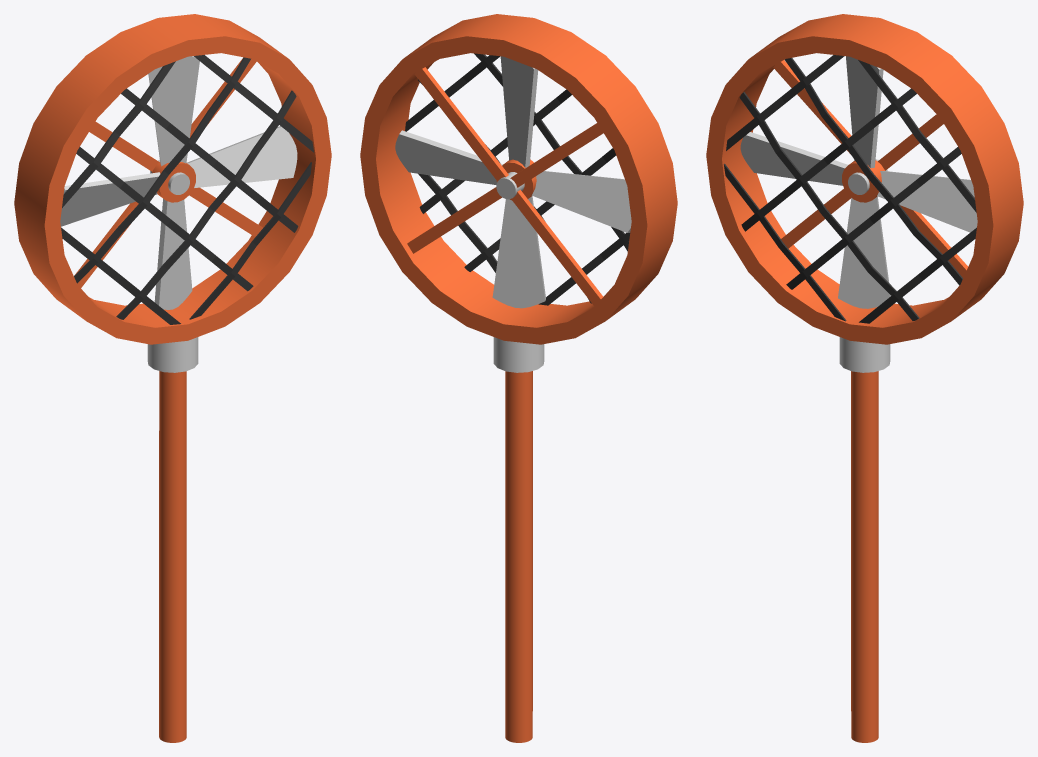
The model's file is Ventilator C.fbx.
The picture shows the model from 3 angles, left to right: view 1: azimuth 30°, elevation 25°; view 2: azimuth 150°, elevation 25°; view 3: azimuth 330°, elevation 25°; orthographic projection.
Parts seen in each view (by area): view 1: Ventilator C, Ventilator C.001, Grid Ventilator C, Ventilator C Stand; view 2: Ventilator C, Ventilator C.001, Ventilator C Stand, Grid Ventilator C; view 3: Ventilator C, Ventilator C.001, Grid Ventilator C, Ventilator C Stand.
Part boxes in pixels (left/top/right/bottom): Ventilator C: left=14, top=14, right=331, bottom=372; Ventilator C.001: left=60, top=56, right=297, bottom=309; Grid Ventilator C: left=61, top=55, right=313, bottom=324; Ventilator C Stand: left=159, top=371, right=186, bottom=742; Ventilator C: left=360, top=14, right=677, bottom=372; Ventilator C.001: left=395, top=56, right=631, bottom=308; Ventilator C Stand: left=505, top=371, right=532, bottom=742; Grid Ventilator C: left=405, top=53, right=630, bottom=305; Ventilator C: left=706, top=14, right=1023, bottom=372; Ventilator C.001: left=740, top=56, right=977, bottom=308; Grid Ventilator C: left=724, top=55, right=976, bottom=323; Ventilator C Stand: left=851, top=371, right=878, bottom=742.
Bounding box in the file's own units: 177 × 417 × 36.4.
